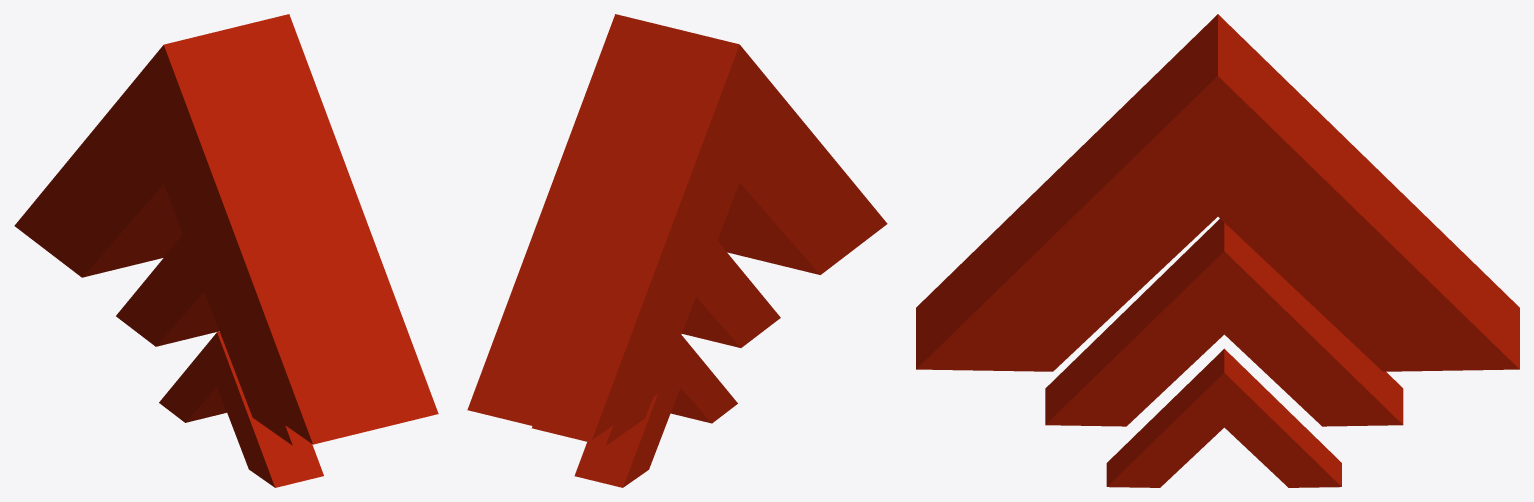
Rendered from Attack Defense Up 1.fbx.
3 renders of one model, left to right at view 1: azimuth 30°, elevation 25°; view 2: azimuth 150°, elevation 25°; view 3: azimuth 270°, elevation 25°, orthographic. The views are drawn at different scales.
Parts seen in each view (by area): view 1: Cube.004; view 2: Cube.004; view 3: Cube.004.
Boxes of the visible parts, x1,y1,x2,y2 form: Cube.004: [14, 14, 438, 487]; Cube.004: [467, 14, 887, 487]; Cube.004: [916, 14, 1519, 487].
Bounding box in the file's own units: 83.72 × 266 × 345.
